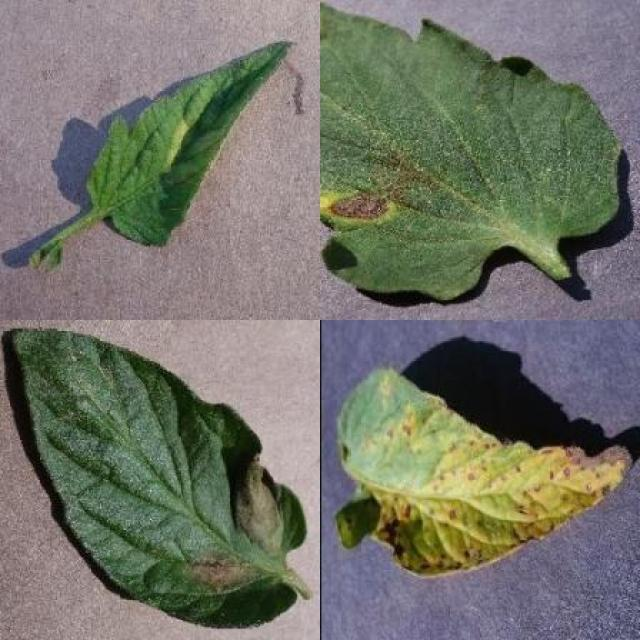Early Blight: (320, 3, 620, 300)
Late Blight: (8, 326, 308, 630)
Leaf Mold: (85, 40, 295, 247)
Septoria: (337, 366, 633, 578)
